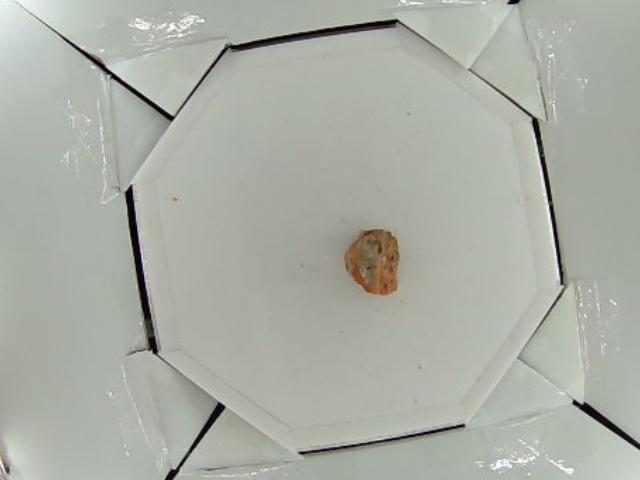Brisk: (345, 230, 401, 293)
